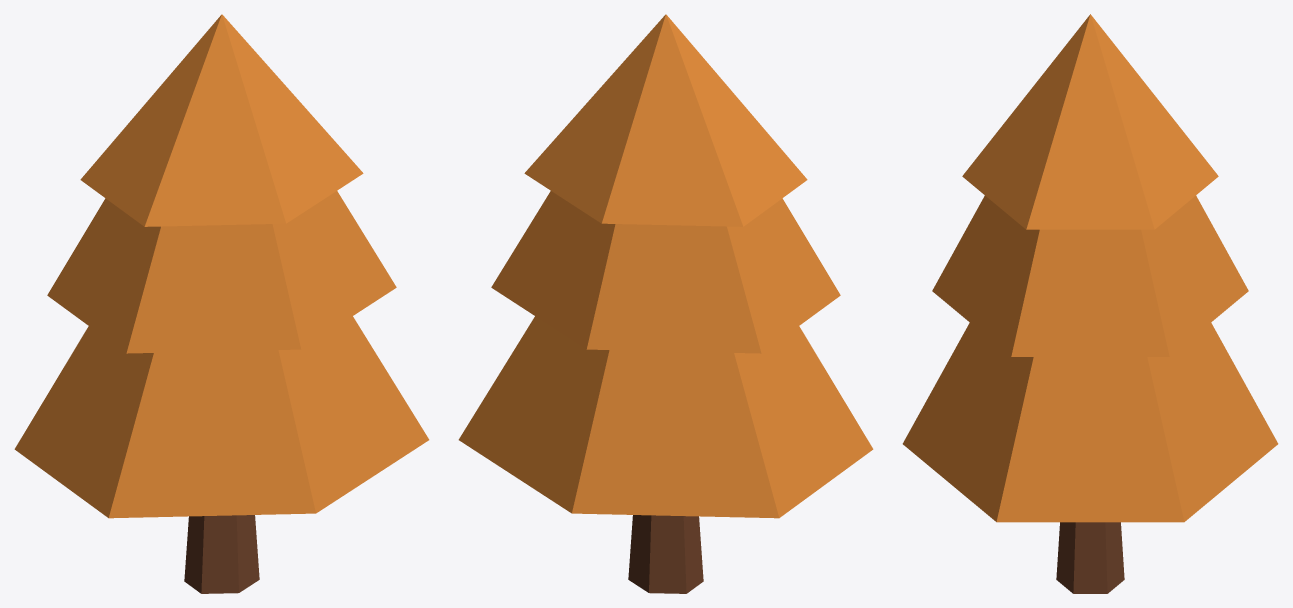
The model's file is Tree_Autumn_Small.fbx.
3 views of the same model, side by side, from view 1: azimuth 30°, elevation 25°; view 2: azimuth 150°, elevation 25°; view 3: azimuth 270°, elevation 25° (orthographic).
Parts seen in each view (by area): view 1: Tree_Autumn_Small; view 2: Tree_Autumn_Small; view 3: Tree_Autumn_Small.
Boxes of the visible parts, <box> form: Tree_Autumn_Small: <box>14,14,429,593</box>; Tree_Autumn_Small: <box>458,14,873,593</box>; Tree_Autumn_Small: <box>902,14,1278,593</box>.
Size of the model in its own units: 105 by 177 by 106.
